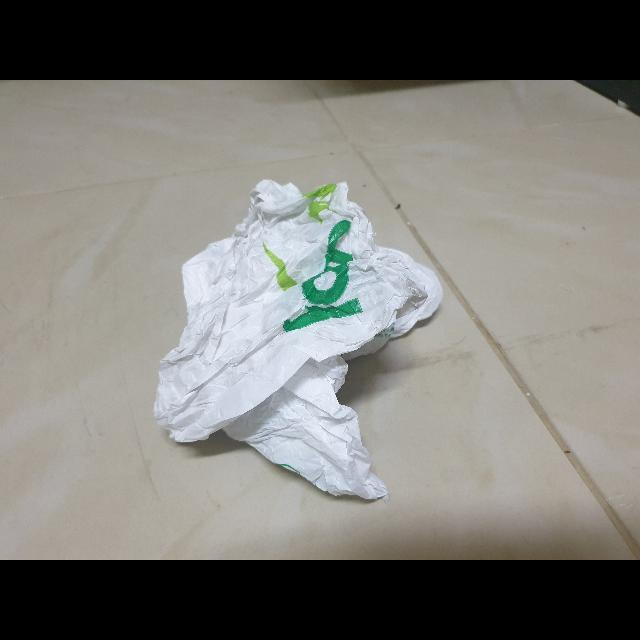plastic_bag: (135, 170, 451, 522)
